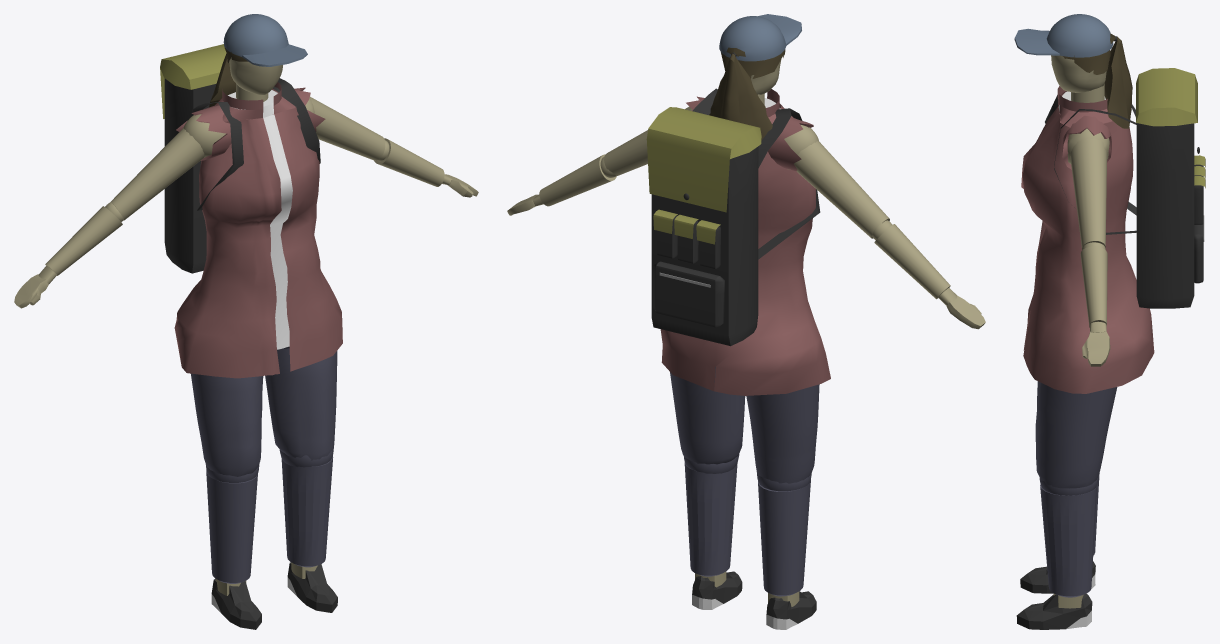
File: apocalypse char ainmation ready.fbx
3 renders of one model, left to right at view 1: azimuth 30°, elevation 25°; view 2: azimuth 150°, elevation 25°; view 3: azimuth 270°, elevation 25°, orthographic. The views are drawn at different scales.
Visible parts, largest first — view 1: pCylinder1, pCylinder4, pCylinder3, pCube13, pCylinder22, pCylinder21, pCylinder24, pSphere17, pCylinder5, pCube19, pCylinder23, pCylinder26 (+9 smaller); view 2: pCylinder1, pCube13, pCube19, pCylinder4, pCylinder3, pCylinder22, pCylinder21, pCube18, pCylinder24, pSphere17, pCube10, pCylinder26 (+8 smaller); view 3: pCylinder1, pCube13, pCylinder3, pCylinder21, pCube19, pCylinder23, pSphere17, pCube12, pCube10, pCylinder25, pSphere7, pCylinder29 (+12 smaller).
Part boxes in pixels (x1,y1,x2,y2): pCylinder1: (174,107,342,378); pCylinder4: (191,373,263,476); pCylinder3: (265,348,337,460); pCube13: (164,78,216,273); pCylinder22: (206,470,257,583); pCylinder21: (281,456,333,567); pCylinder24: (110,128,204,220); pSphere17: (223,14,307,66); pCylinder5: (263,114,292,349); pCube19: (160,44,226,118); pCylinder23: (309,96,385,160); pCylinder26: (45,206,122,275); pCylinder1: (660,151,830,395); pCube13: (651,146,758,346); pCube19: (646,107,761,212); pCylinder4: (746,384,819,483); pCylinder3: (670,367,745,464); pCylinder22: (758,479,810,596); pCylinder21: (684,462,737,576); pCube18: (653,261,724,327); pCylinder24: (794,141,889,238); pSphere17: (719,14,801,61); pCube10: (709,53,772,140); pCylinder26: (874,224,950,299); pCylinder1: (1021,106,1154,393); pCube13: (1136,123,1194,308); pCylinder3: (1035,382,1117,488); pCylinder21: (1040,484,1096,597); pCube19: (1136,68,1197,126); pCylinder23: (1070,138,1107,250); pSphere17: (1014,14,1113,57); pCube12: (1016,593,1092,629); pCube10: (1104,36,1132,128); pCylinder25: (1080,246,1107,327); pSphere7: (1051,55,1109,92); pCylinder29: (1062,115,1111,169).
Size of the model in its own units: 18.67 by 22.61 by 6.7.
